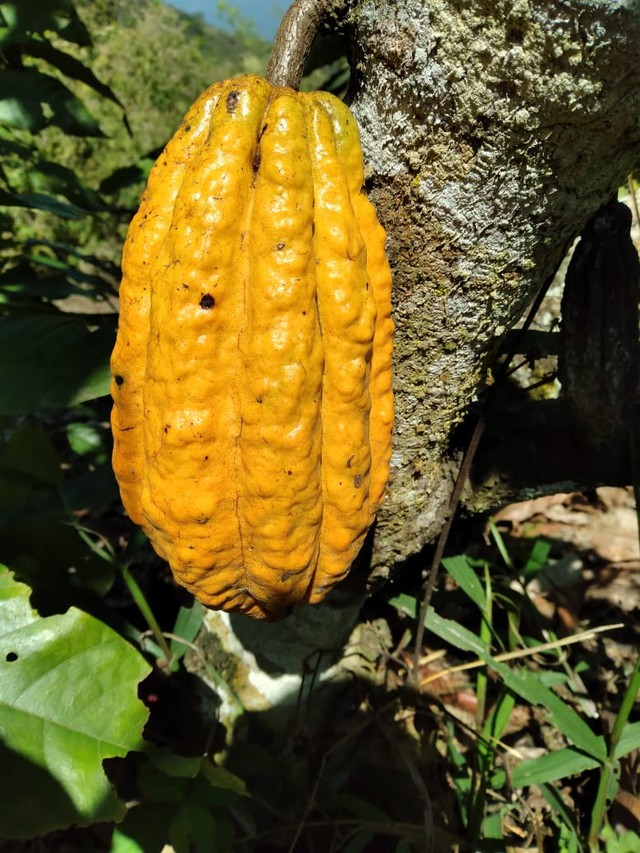carmenta foraseminis: (108, 71, 400, 626)
